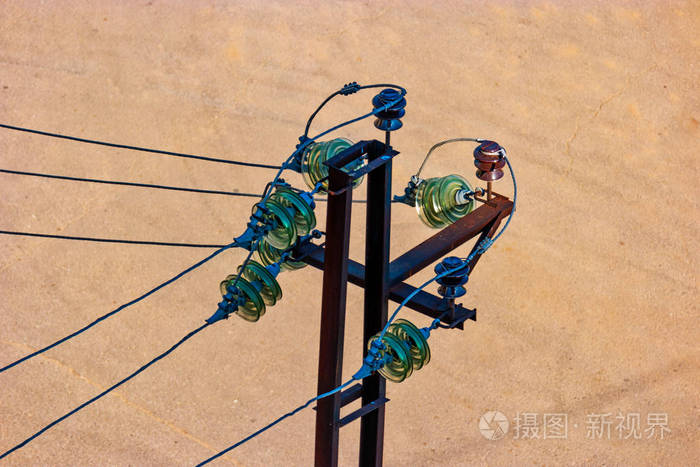insulator: (221, 260, 289, 322), (368, 317, 430, 385), (253, 191, 313, 248), (415, 172, 469, 226)
